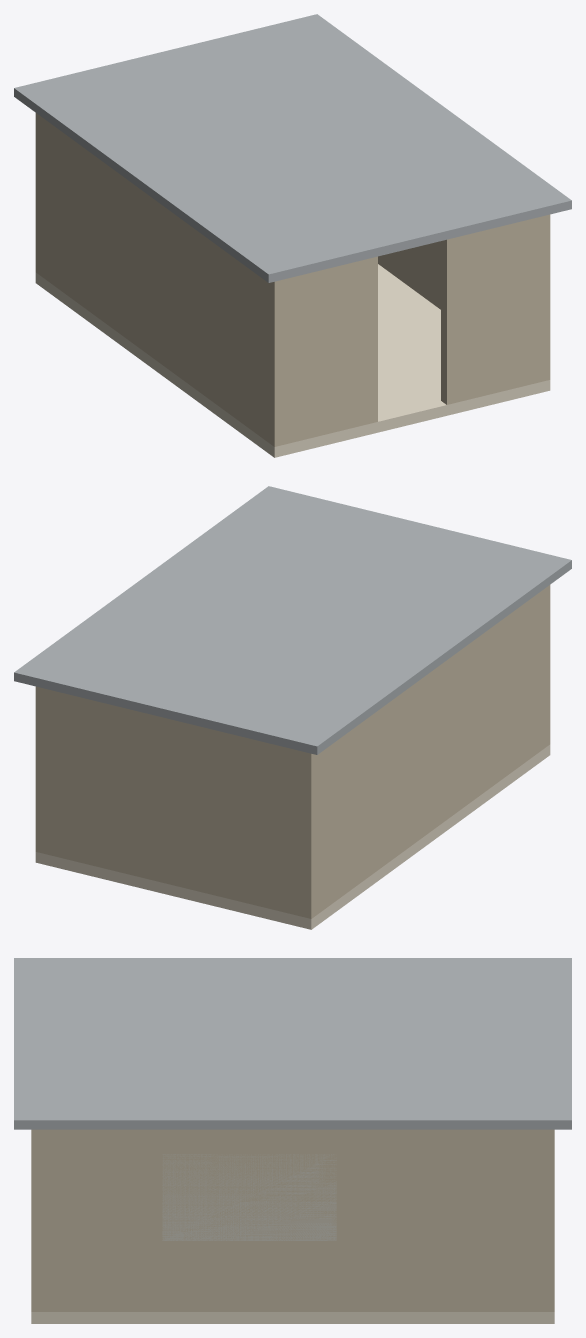
Rendered from example-box.glb.
The picture shows the model from 3 angles, top to bottom: view 1: azimuth 30°, elevation 25°; view 2: azimuth 150°, elevation 25°; view 3: azimuth 270°, elevation 25°; orthographic projection. The views are drawn at different scales.
Visible parts, largest first — view 1: standing-seam metal, board and batten, stone; view 2: board and batten, standing-seam metal, stone; view 3: standing-seam metal, board and batten, glass, stone.
Boxes of the visible parts, box(x1,y1,x2,y2) form: standing-seam metal: box(14, 14, 571, 282); board and batten: box(35, 113, 550, 446); stone: box(35, 264, 550, 457); board and batten: box(35, 585, 550, 918); standing-seam metal: box(14, 486, 571, 754); stone: box(35, 744, 550, 929); standing-seam metal: box(14, 958, 571, 1129); board and batten: box(31, 1129, 554, 1311); glass: box(162, 1154, 336, 1240); stone: box(31, 1312, 554, 1323).
Bounding box in the file's own units: 4.4 × 2.67 × 6.4.
